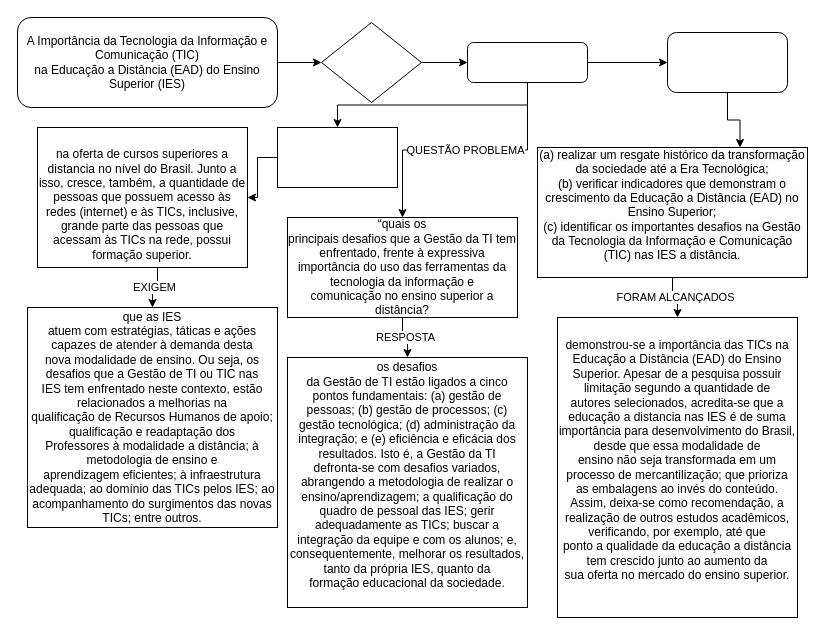
Image size: 825x636. Some labels were removed from this diagram. The shapes that lost their labels are listed below. From the top down, each one's centre as x and y in pixels, then its label:
the point at 371,62: Se divide em
the point at 527,62: CONSIDERAÇÕES FINAIS
the point at 727,62: OBJETIVOS ESPECÍFICOS
the point at 337,157: CRESCIMENTO
